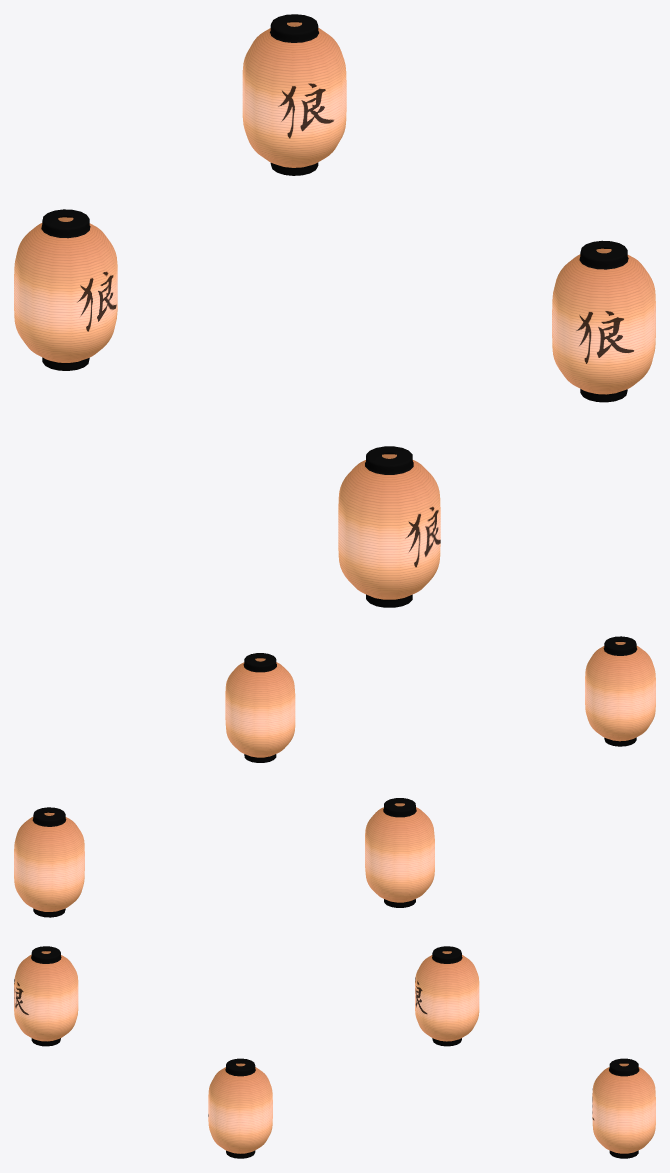
File: Dream2_AllLanterns.glb
The picture shows the model from 3 angles, top to bottom: view 1: azimuth 30°, elevation 25°; view 2: azimuth 150°, elevation 25°; view 3: azimuth 270°, elevation 25°; orthographic projection. The views are drawn at different scales.
Visible parts, largest first — view 1: Object_2.002, Object_2.003, Object_2.001, Object_2; view 2: Object_2, Object_2.002, Object_2.001, Object_2.003; view 3: Object_2.001, Object_2, Object_2.003, Object_2.002.
Boxes of the visible parts, <box> form: Object_2.002: <box>242,14,346,175</box>; Object_2.003: <box>14,209,117,370</box>; Object_2.001: <box>552,240,655,402</box>; Object_2: <box>338,446,440,607</box>; Object_2: <box>585,636,655,746</box>; Object_2.002: <box>14,807,84,917</box>; Object_2.001: <box>225,653,295,762</box>; Object_2.003: <box>365,798,434,907</box>; Object_2.001: <box>208,1058,272,1158</box>; Object_2: <box>14,946,78,1046</box>; Object_2.003: <box>415,946,479,1046</box>; Object_2.002: <box>592,1058,655,1158</box>.
Size of the model in its own units: 6.26 by 1.85 by 12.17.
1 material, 1 textured.
